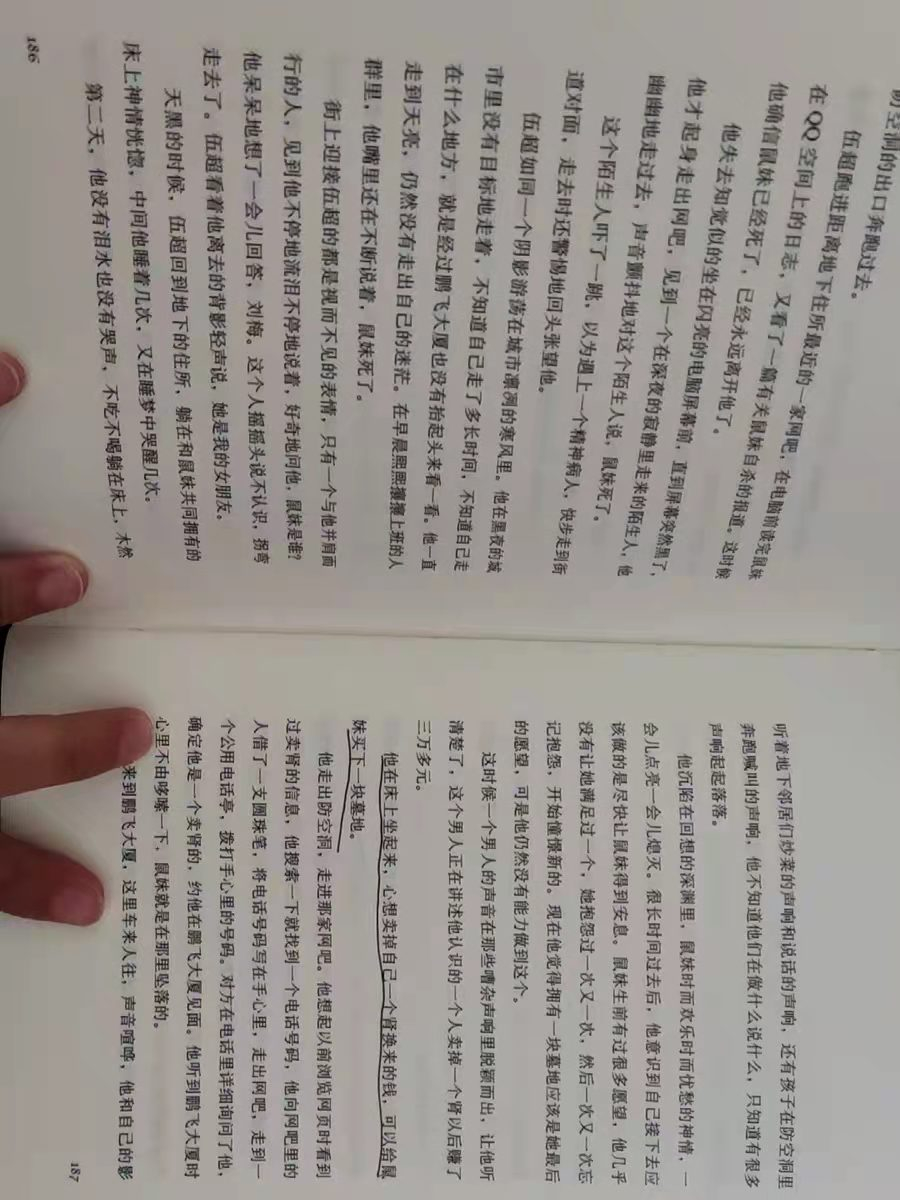book: (3, 7, 897, 1200)
